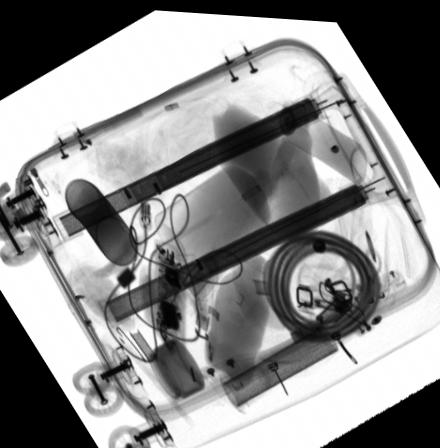Sprayer: (268, 96, 367, 181)
